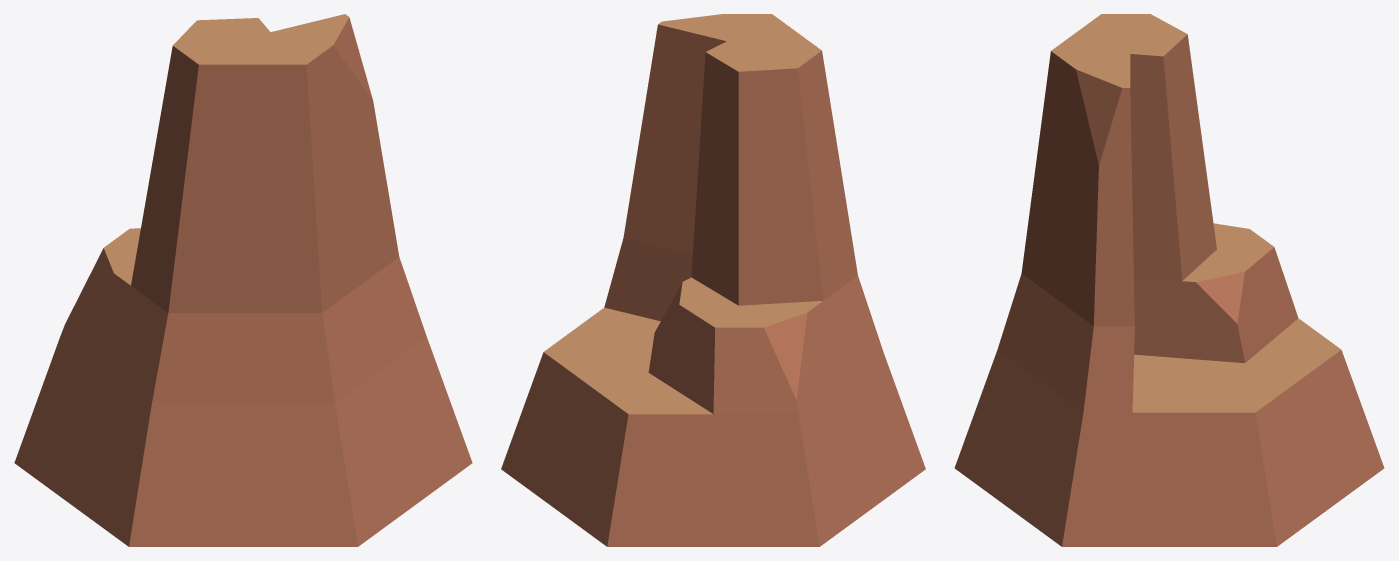
File: nk_rockred_tallH.glb
3 views of the same model, side by side, from view 1: azimuth 30°, elevation 25°; view 2: azimuth 150°, elevation 25°; view 3: azimuth 270°, elevation 25° (orthographic). The views are drawn at different scales.
Visible parts, largest first — view 1: rock_tallH; view 2: rock_tallH; view 3: rock_tallH.
Part boxes in pixels (x1=…): rock_tallH: x1=14, y1=14, x2=472, y2=546; rock_tallH: x1=501, y1=14, x2=925, y2=546; rock_tallH: x1=954, y1=14, x2=1384, y2=546.
Size of the model in its own units: 2.8 by 3.46 by 3.23.
